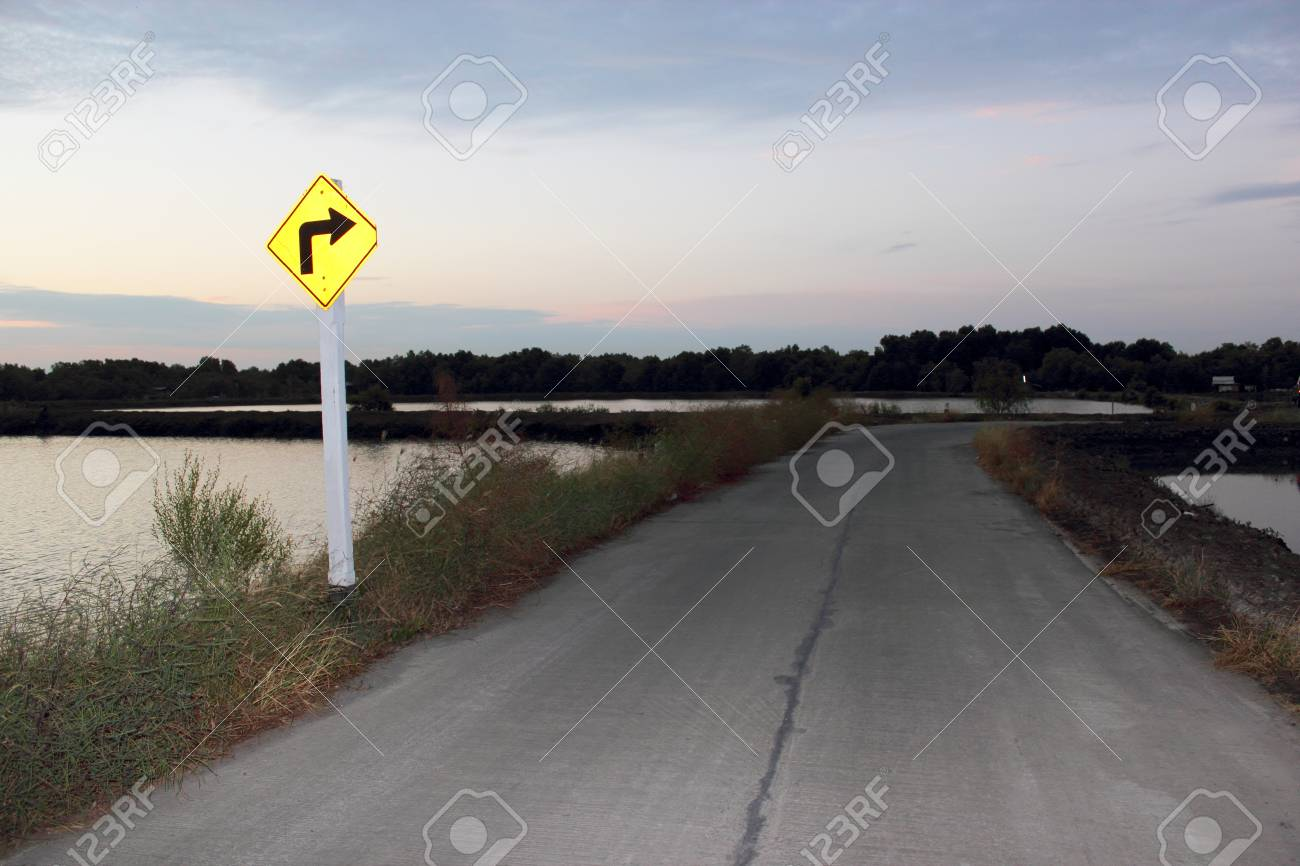right: (262, 169, 383, 311)
